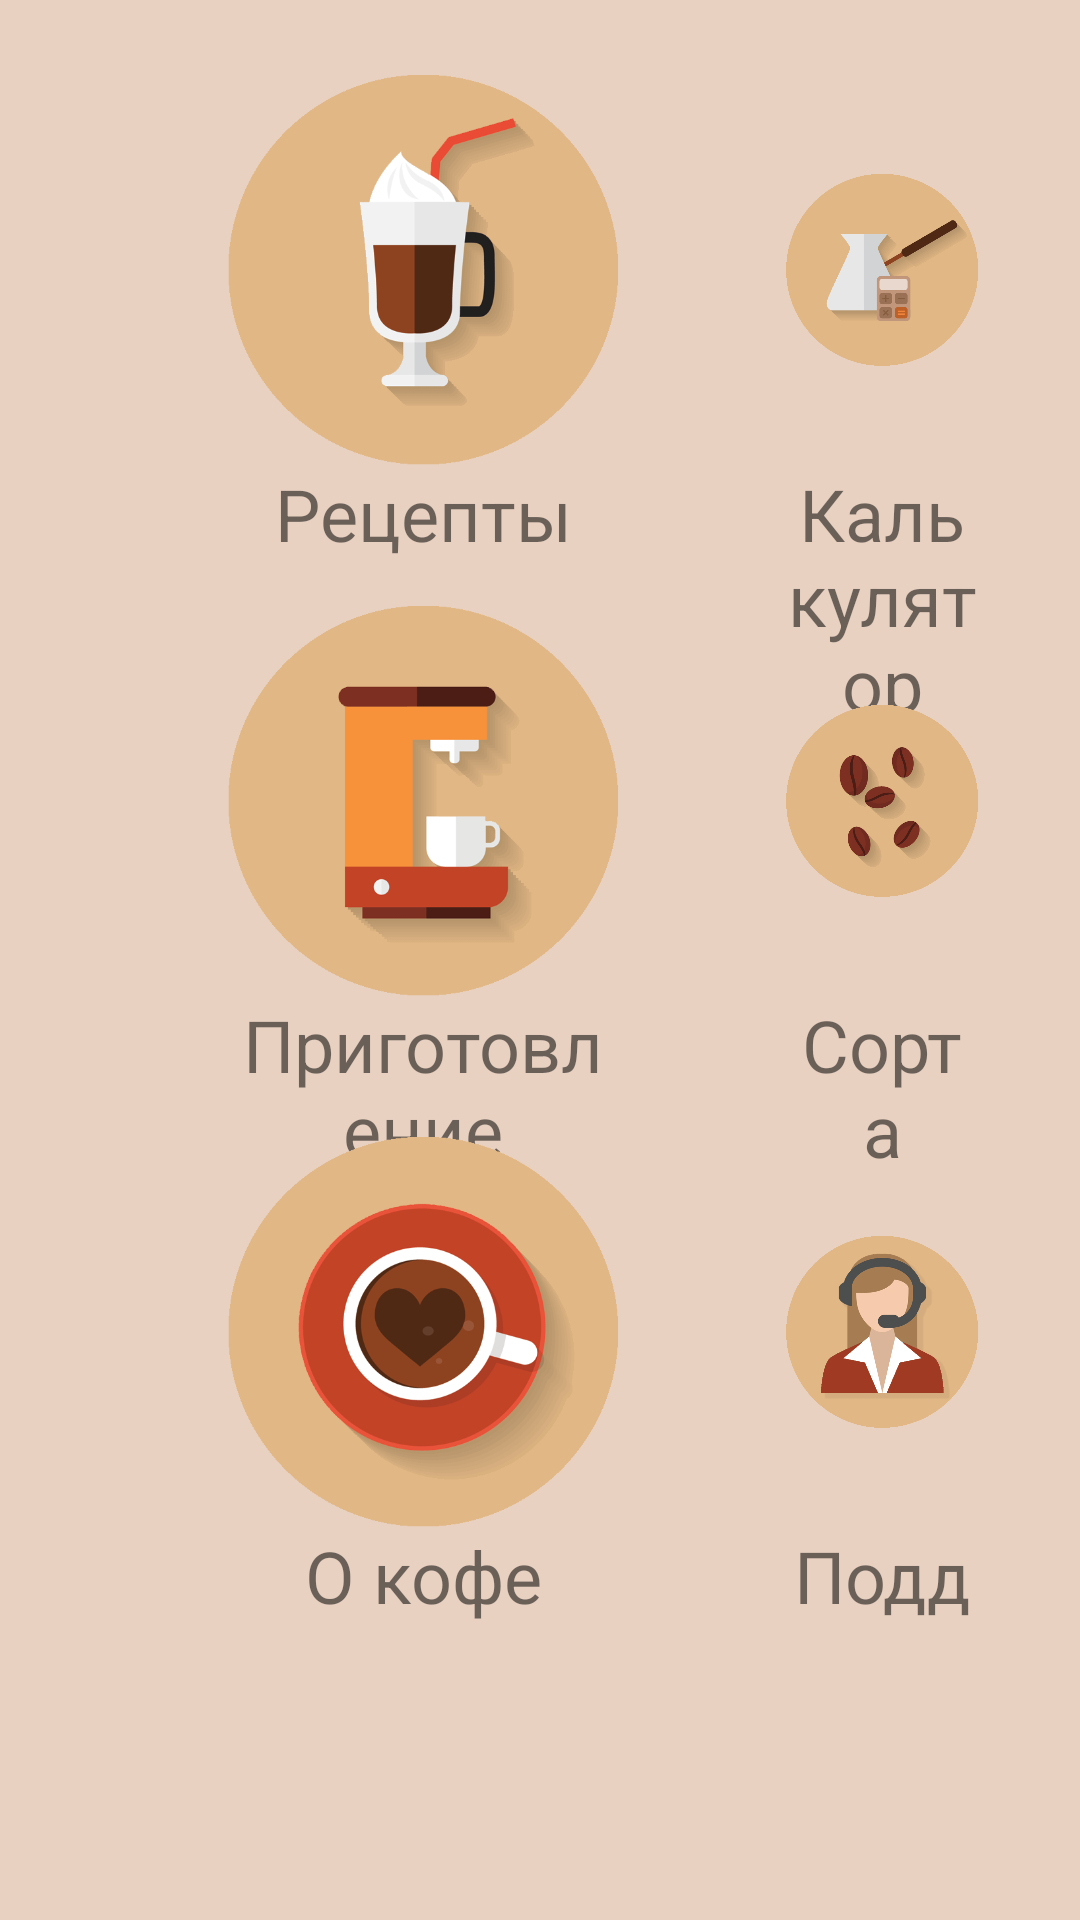

Point at icon controls on the screen. Image size 1080*1920, points as (x=x, y=y).
beans sorts: (x=882, y=785)
calculator: (x=882, y=270)
support: (x=882, y=1332)
